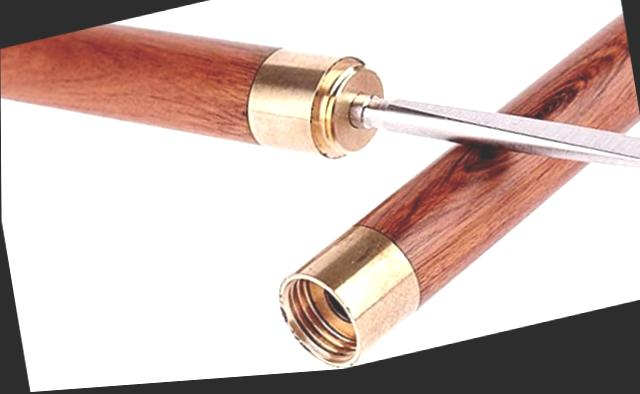ice pick: (0, 0, 640, 321)
